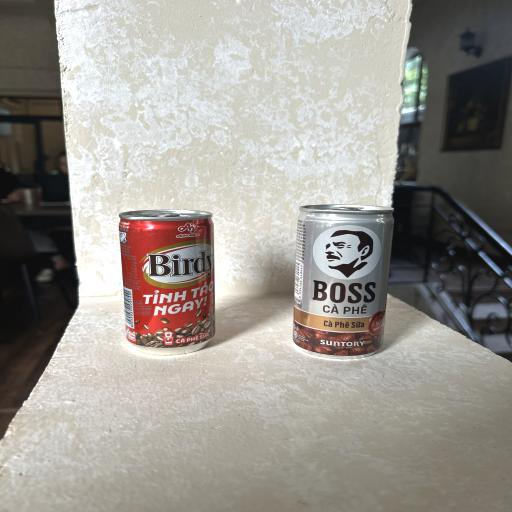birdy: (118, 207, 216, 360)
boss_coffee: (286, 202, 397, 364)
